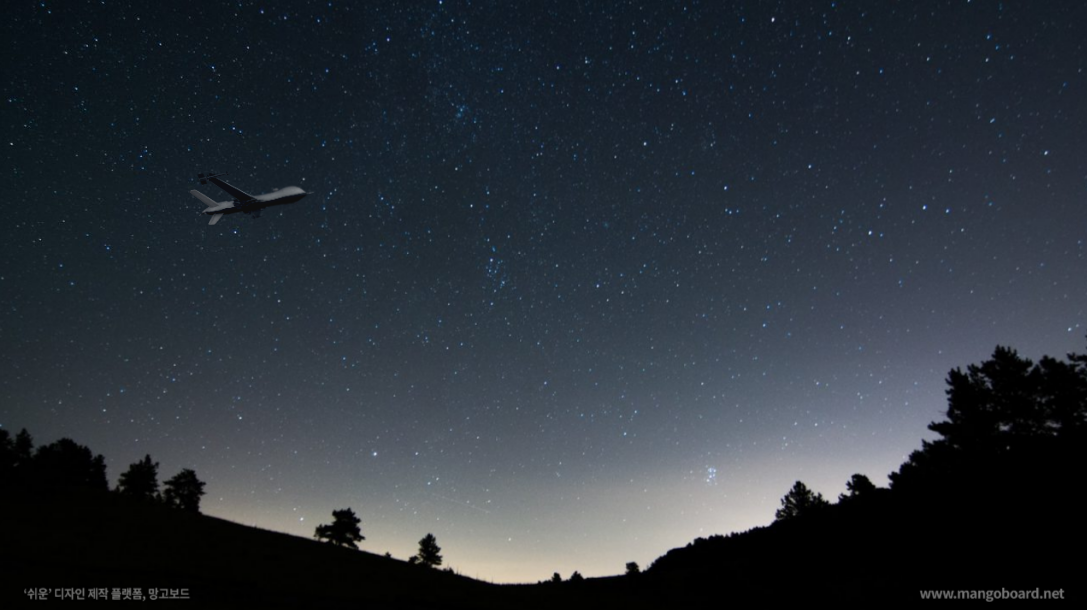military drone: (189, 170, 314, 224)
